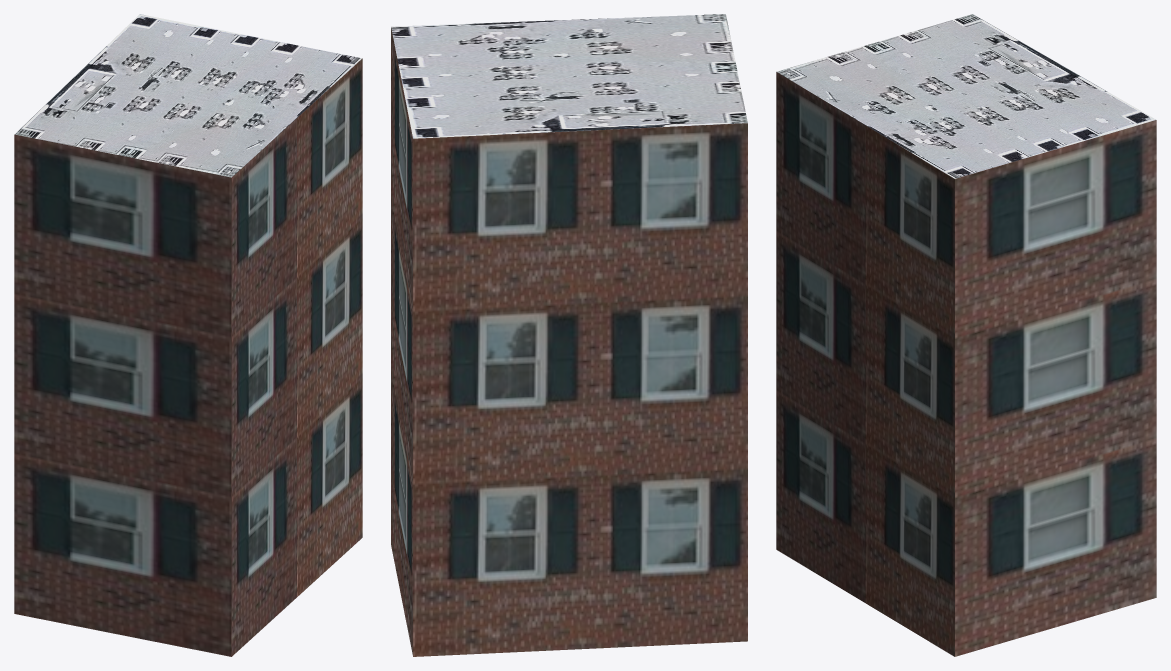
File: ResTex__45.fbx
3 renders of one model, left to right at view 1: azimuth 30°, elevation 25°; view 2: azimuth 150°, elevation 25°; view 3: azimuth 270°, elevation 25°, orthographic. The views are drawn at different scales.
Visible parts, largest first — view 1: CityEngineMaterial_14_m, CityEngineMaterial_4_m; view 2: CityEngineMaterial_14_m, CityEngineMaterial_4_m; view 3: CityEngineMaterial_14_m, CityEngineMaterial_4_m.
Part boxes in pixels (<box>): CityEngineMaterial_14_m: <box>14,58,362,656</box>; CityEngineMaterial_4_m: <box>14,14,361,177</box>; CityEngineMaterial_14_m: <box>391,27,747,656</box>; CityEngineMaterial_4_m: <box>391,14,747,138</box>; CityEngineMaterial_14_m: <box>776,72,1156,656</box>; CityEngineMaterial_4_m: <box>777,14,1155,178</box>.
Bounding box in the file's own units: 6.66 × 9 × 6.49.
2 materials, 2 textured.
